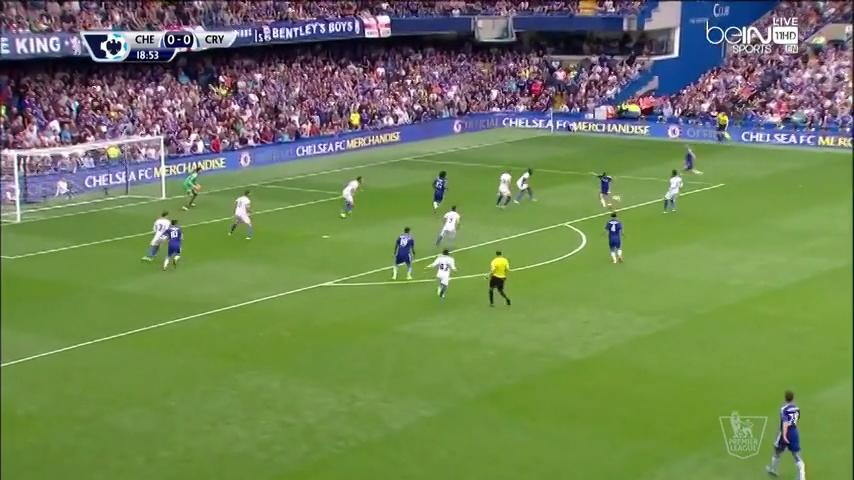football: (610, 192, 621, 205)
